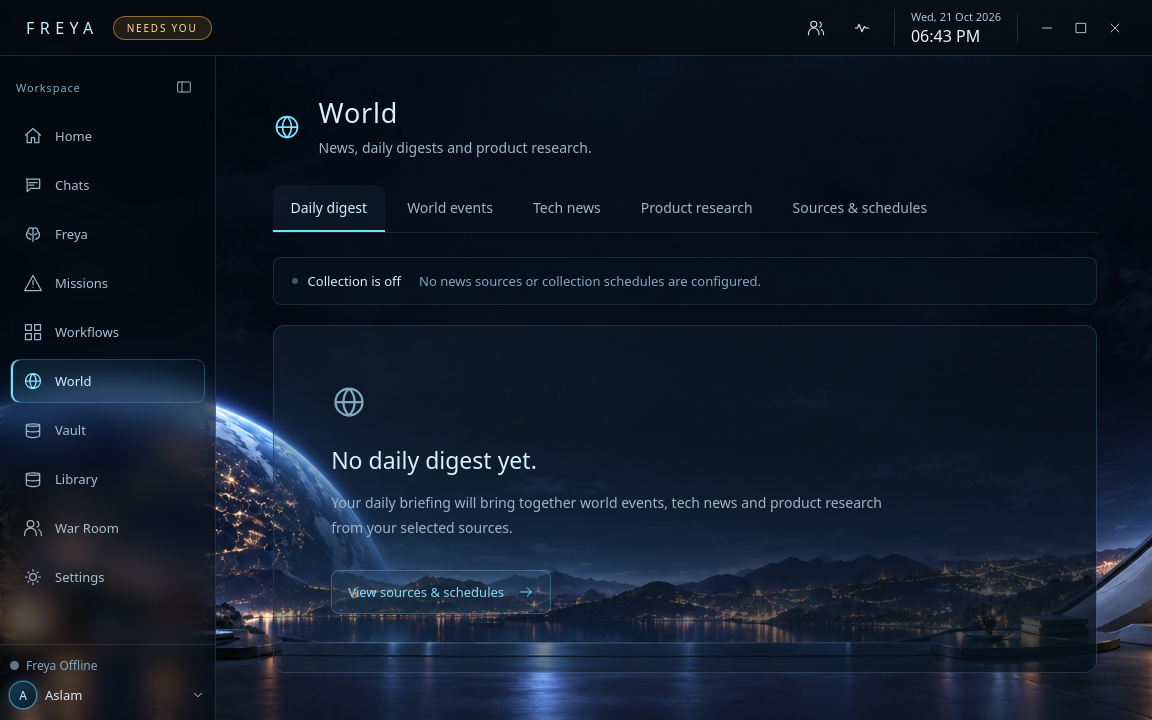
Scenario: the shipping primary destinations › remembers the separate news World pages and leaves collection off
What coordinates should you click on to do the following:
click the tab "Product research"
I would click on:
 (697, 209)
Its box is x1=623 y1=185 x2=771 y2=232.
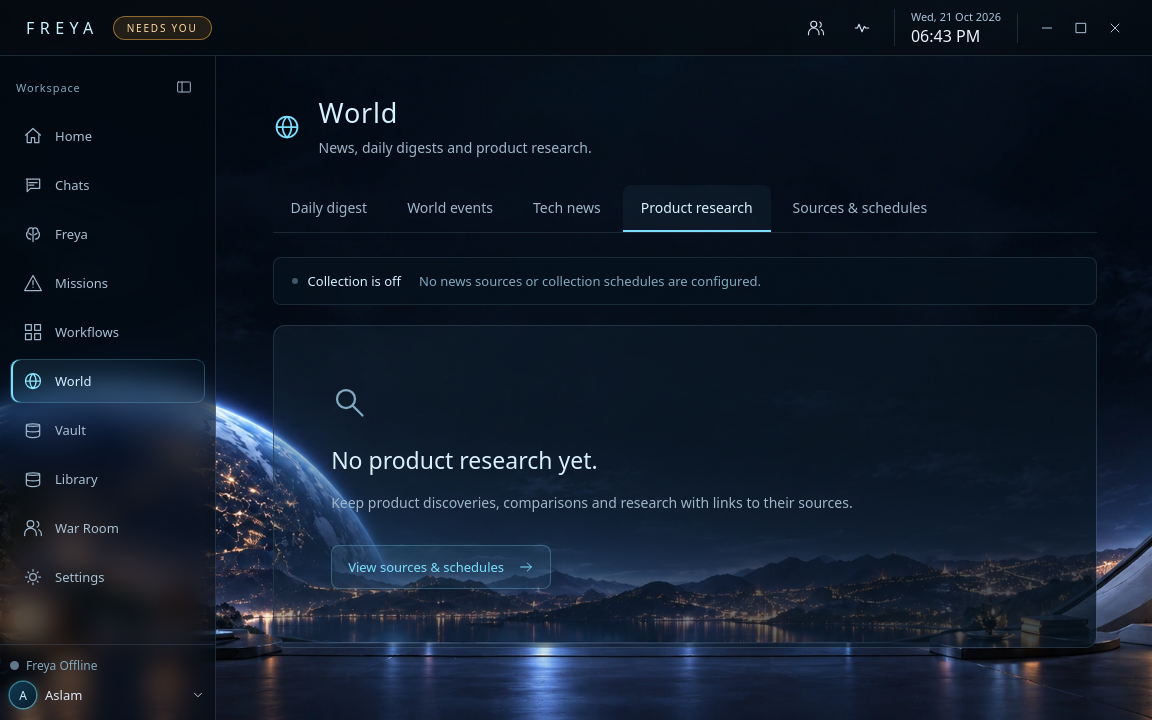
What coordinates should you click on to do the following:
click the button "Chats"
I would click on:
 (108, 185)
Its box is x1=10 y1=163 x2=205 y2=207.
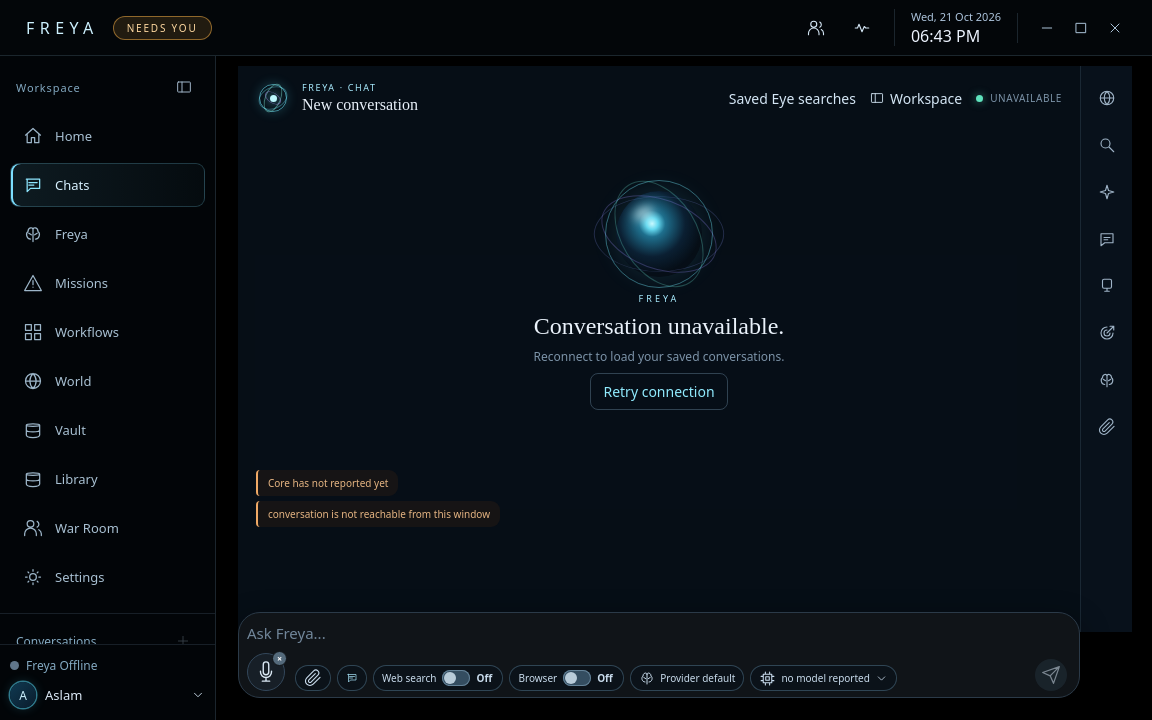
What coordinates should you click on to do the following:
click the button "World"
I would click on:
 (108, 381)
Its box is x1=10 y1=359 x2=205 y2=403.
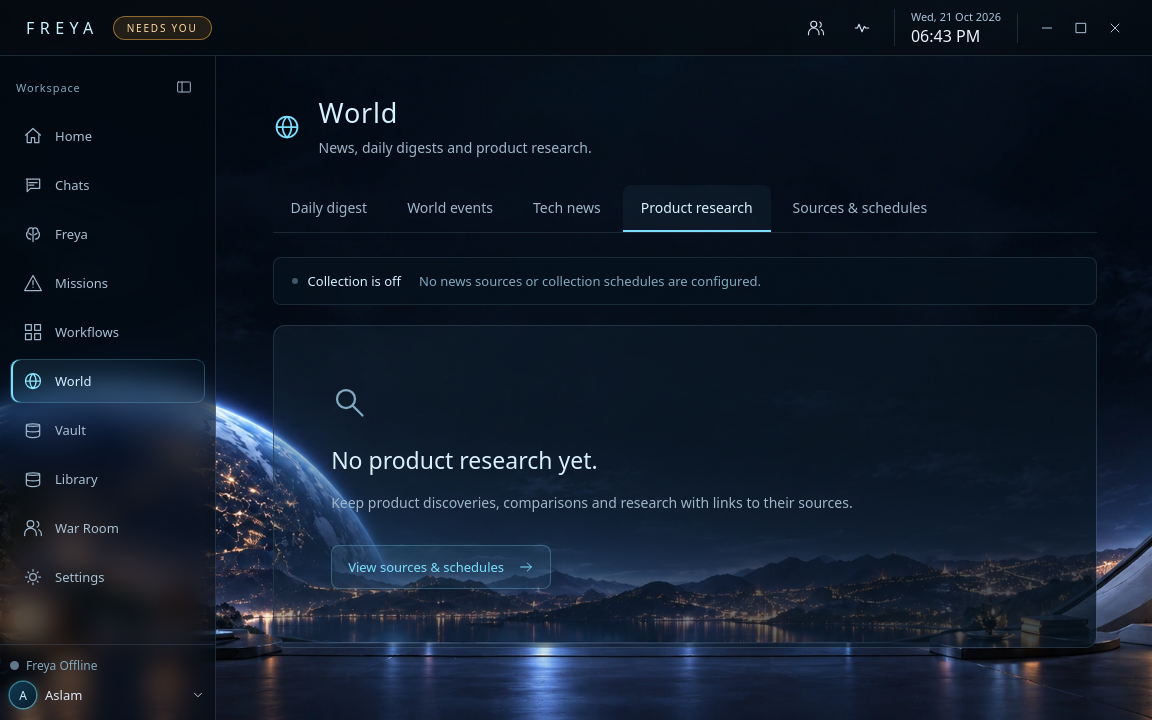
Now the panel named "Product research" shows "Collection is off", box x1=308 y1=272 x2=401 y2=290
